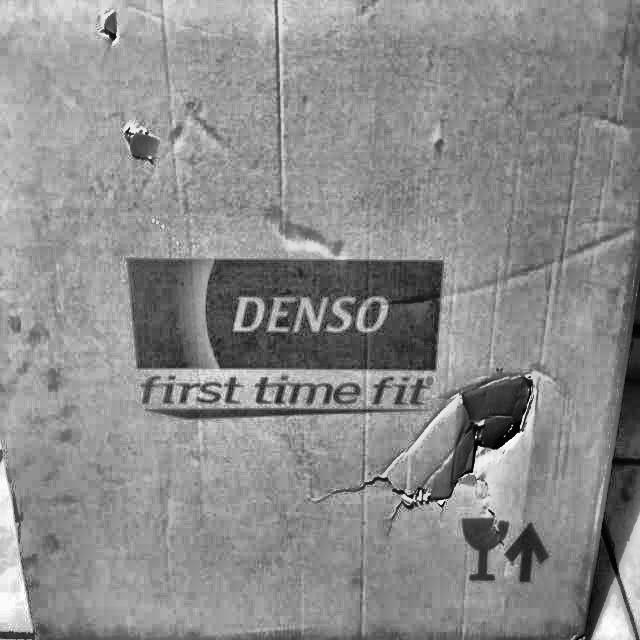box: (0, 0, 639, 638)
hole: (373, 371, 539, 517)
